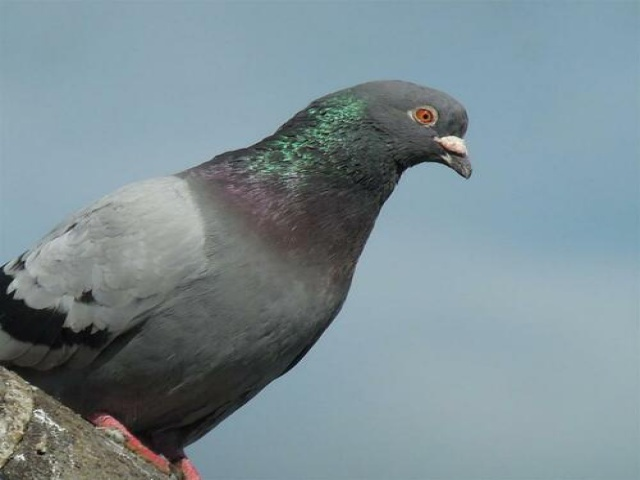Pigeon: (15, 76, 477, 404)
